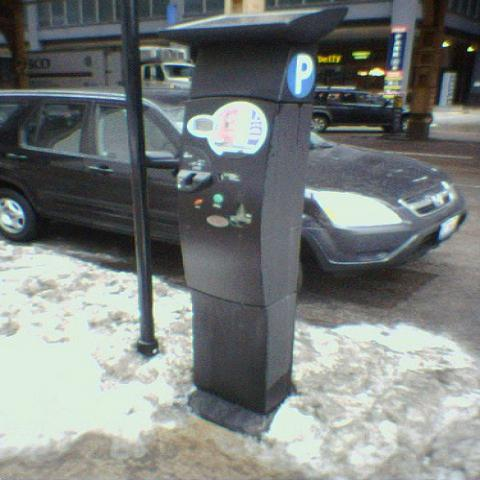car: (0, 86, 474, 275), (312, 86, 412, 131)
truck: (20, 46, 199, 98)
